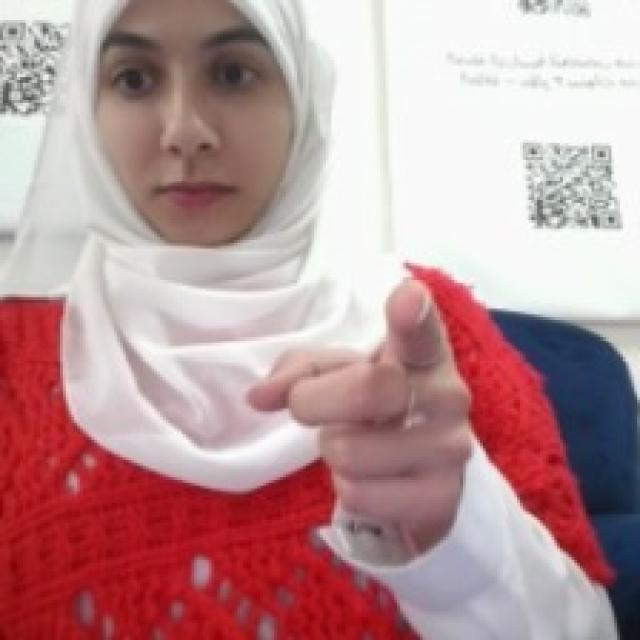you: (240, 271, 480, 540)
